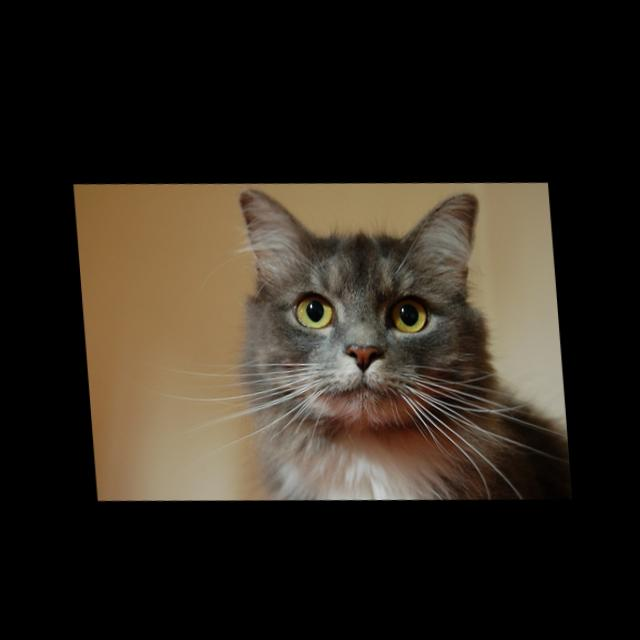animals: (243, 171, 484, 379)
